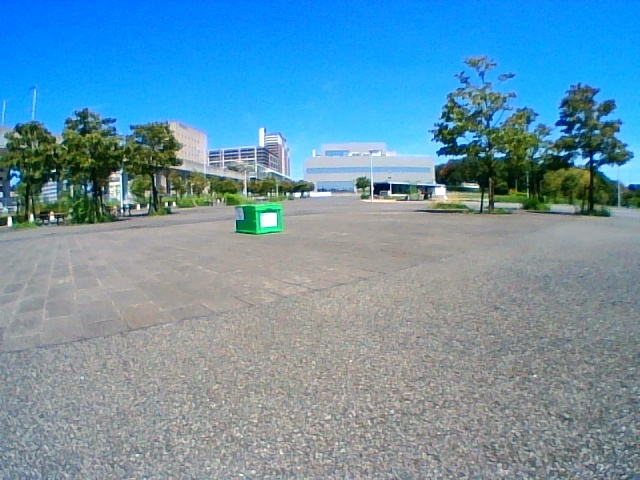green_box: (235, 205, 282, 233)
tag: (236, 208, 243, 220)
